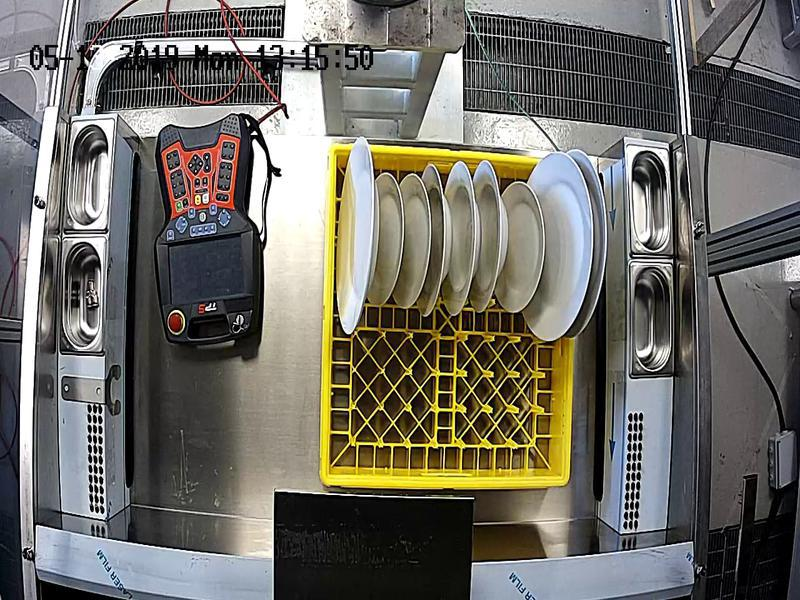Dish: (546, 151, 592, 345), (336, 136, 376, 338), (509, 176, 545, 311), (480, 161, 508, 323), (454, 159, 480, 318), (376, 170, 402, 301), (431, 157, 452, 313), (405, 173, 429, 301), (591, 153, 607, 320)
